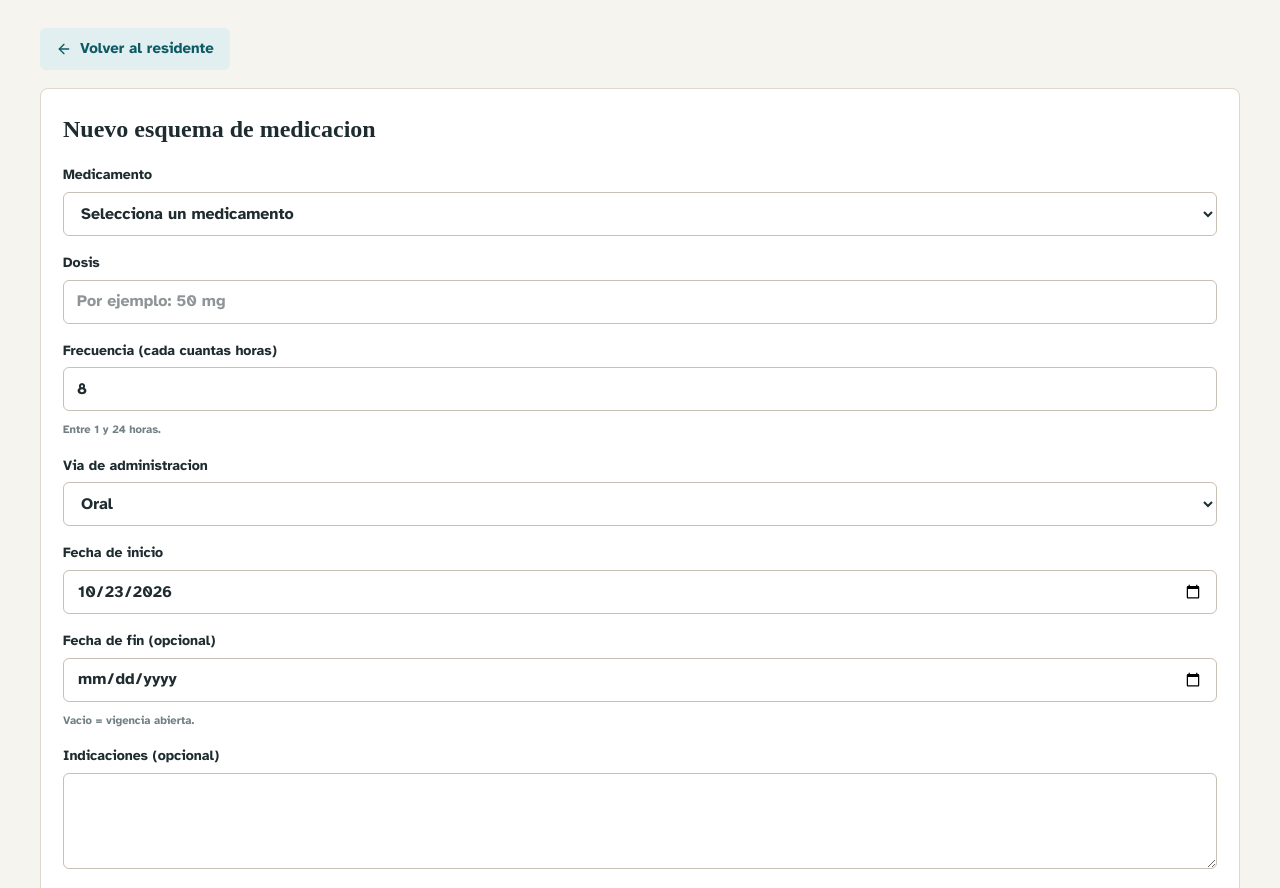
Test case: FormularioEsquema › rechaza una frecuencia fuera de 1 a 24
This screenshot has width=1280, height=888.
Replace the text in the number field labelled "Frecuencia (cada cuantas horas) Entre 1 y 24 horas." with "30". click: (640, 389)
box: left=63, top=367, right=1217, bottom=411
(page scrolled)
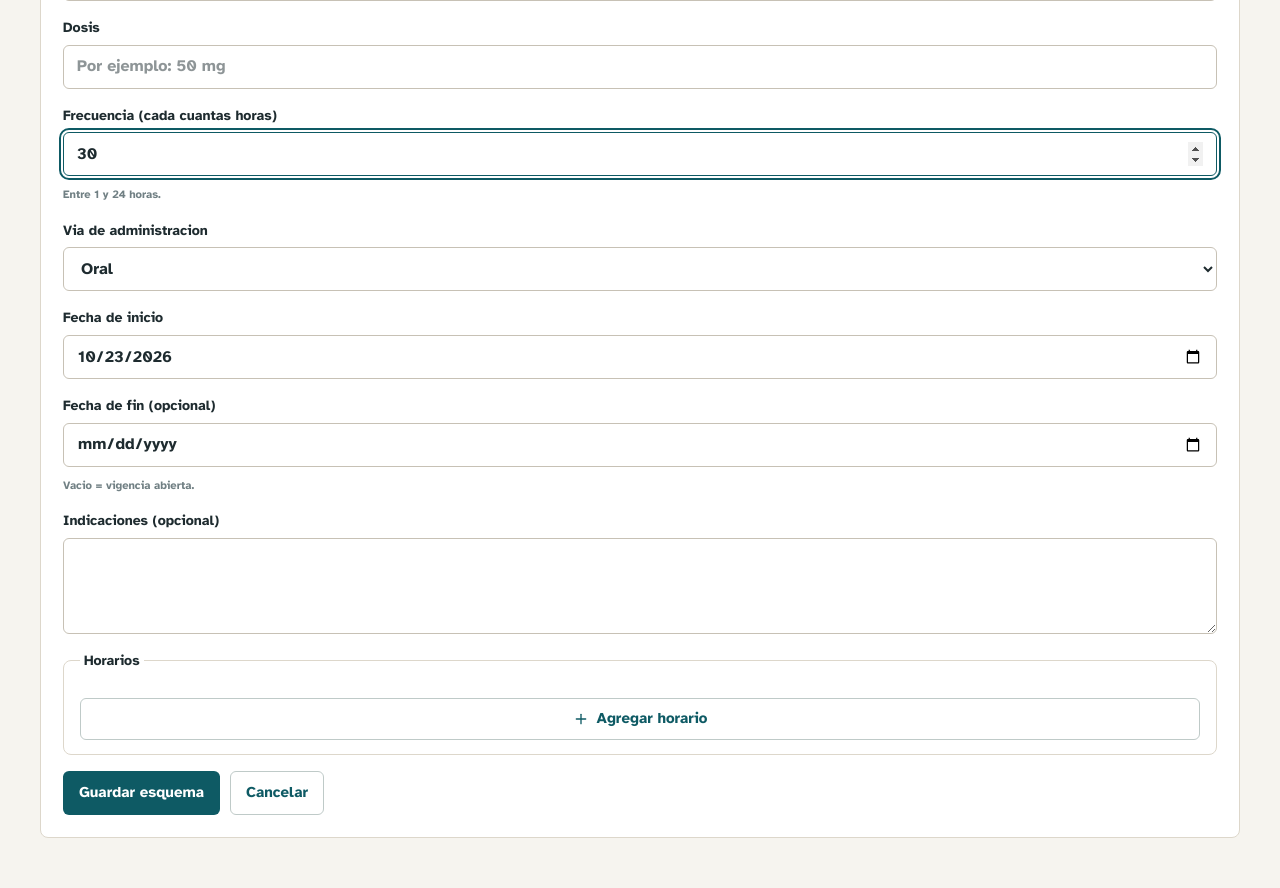
Click the button "Guardar esquema". click: (142, 793)
box: left=63, top=771, right=220, bottom=815
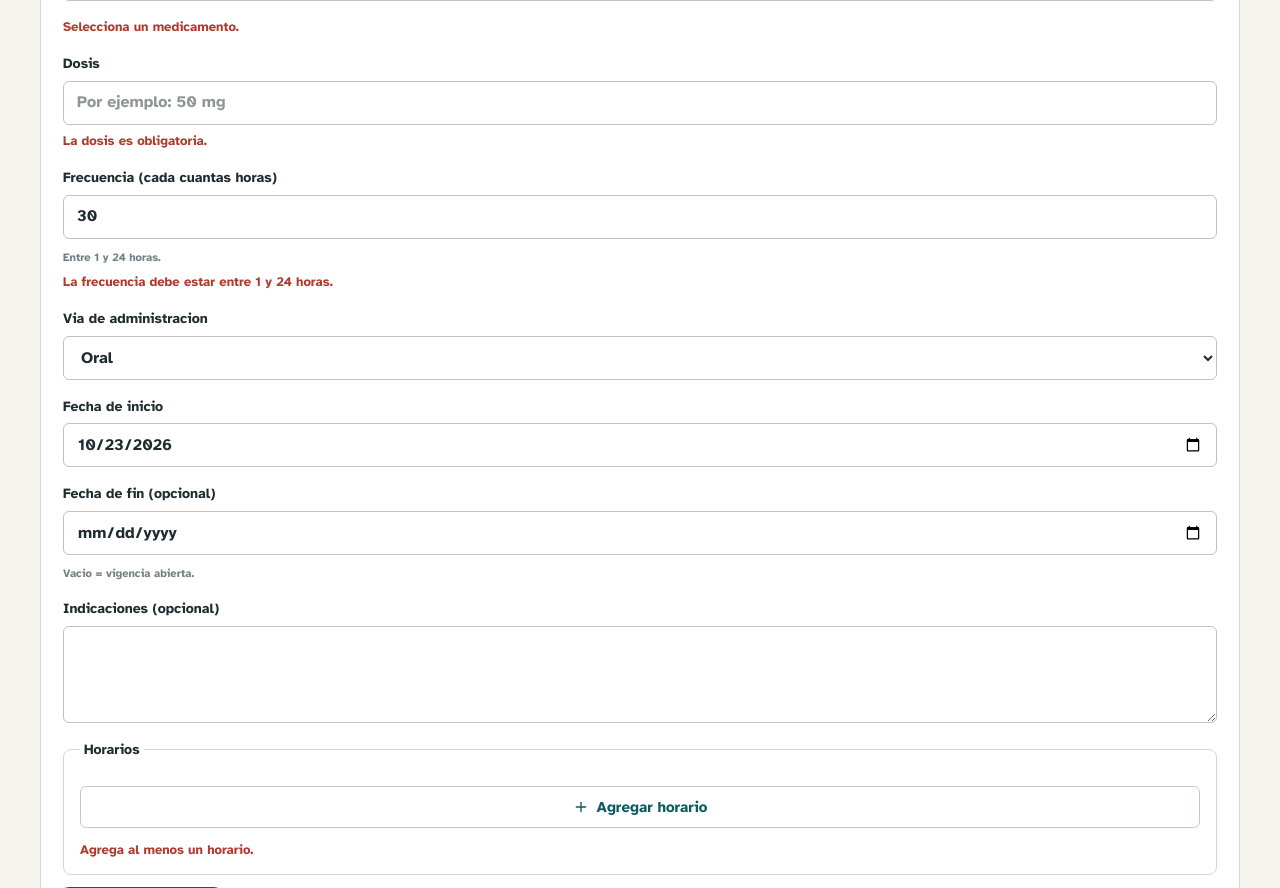
Check: the text "La frecuencia debe estar entre 1 y 24 horas." is shown, box left=63, top=274, right=333, bottom=290
